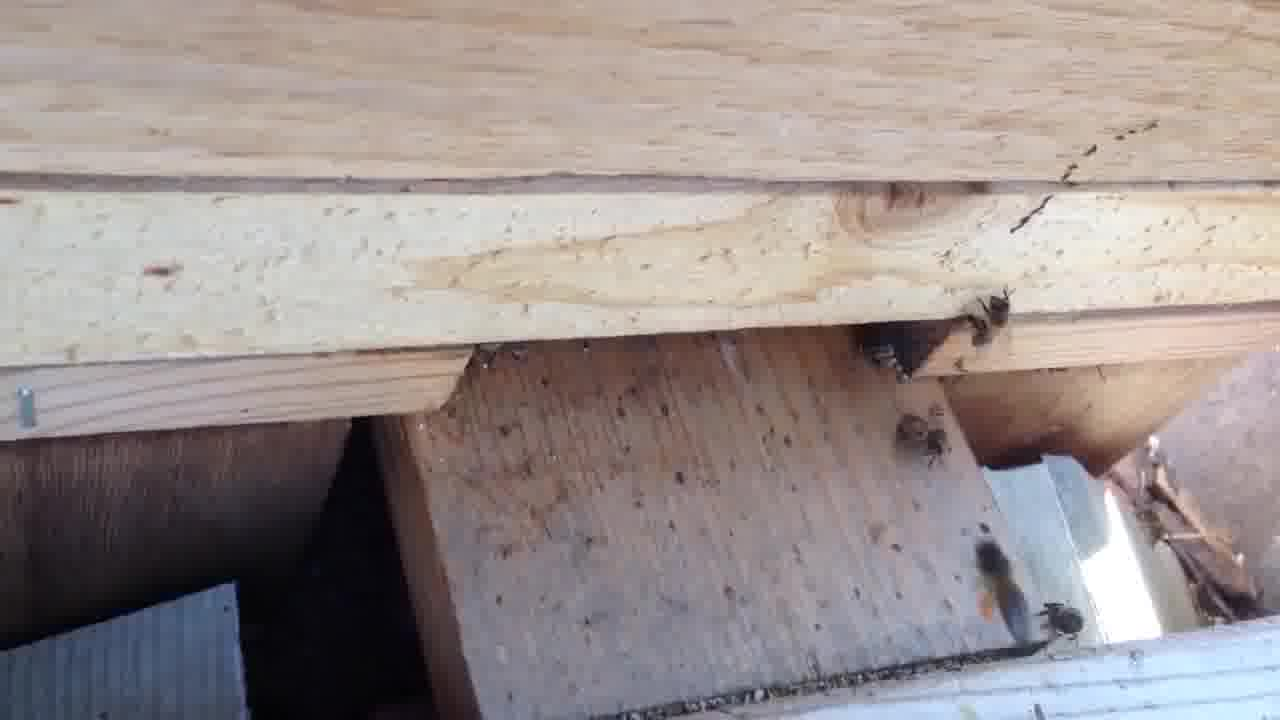pollen: (966, 533, 1040, 643)
